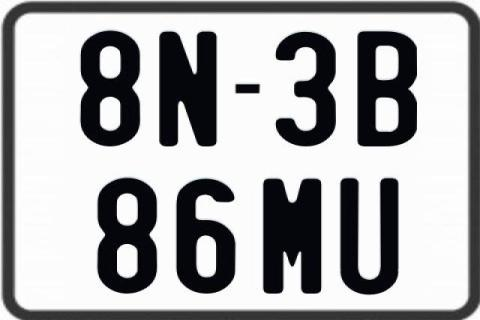0: (80, 29, 146, 149), (94, 176, 158, 297), (173, 178, 233, 298), (275, 31, 337, 146)
B: (356, 32, 416, 152)
M: (262, 178, 323, 298)
N: (157, 30, 218, 148)
U: (339, 179, 400, 297)
